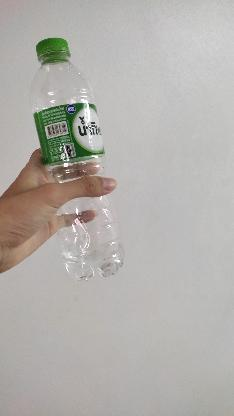Plastic Bottle: (30, 32, 138, 290)
